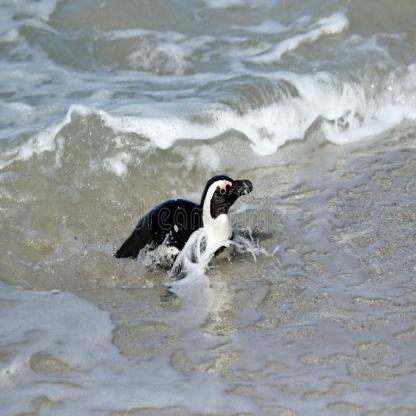Penguin: (97, 150, 286, 306)
